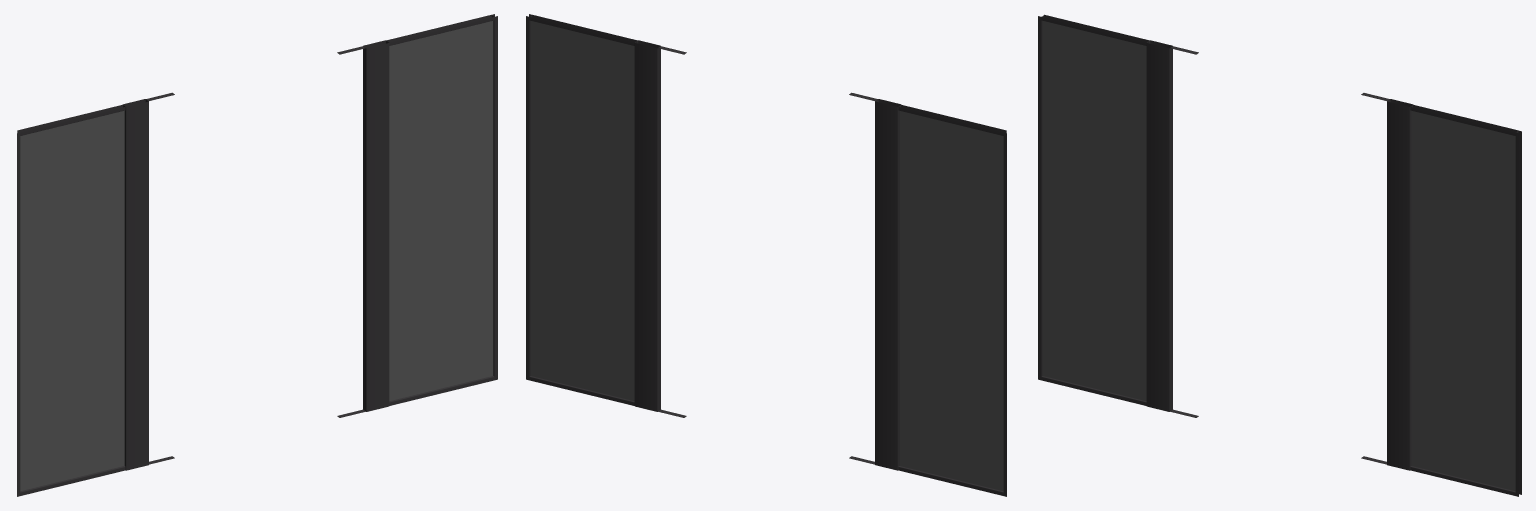
File: glass door frame1.FBX
3 renders of one model, left to right at view 1: azimuth 30°, elevation 25°; view 2: azimuth 150°, elevation 25°; view 3: azimuth 330°, elevation 25°, orthographic.
Parts seen in each view (by area): view 1: glass door frame1; view 2: glass door frame1; view 3: glass door frame1.
Part boxes in pixels (box(x1,y1,x2,y2)): glass door frame1: box(17, 14, 497, 496); glass door frame1: box(526, 14, 1006, 496); glass door frame1: box(1038, 14, 1521, 496).
Size of the model in its own units: 145 by 1.88 by 105.
Materials: 2 (2 with a texture image).
